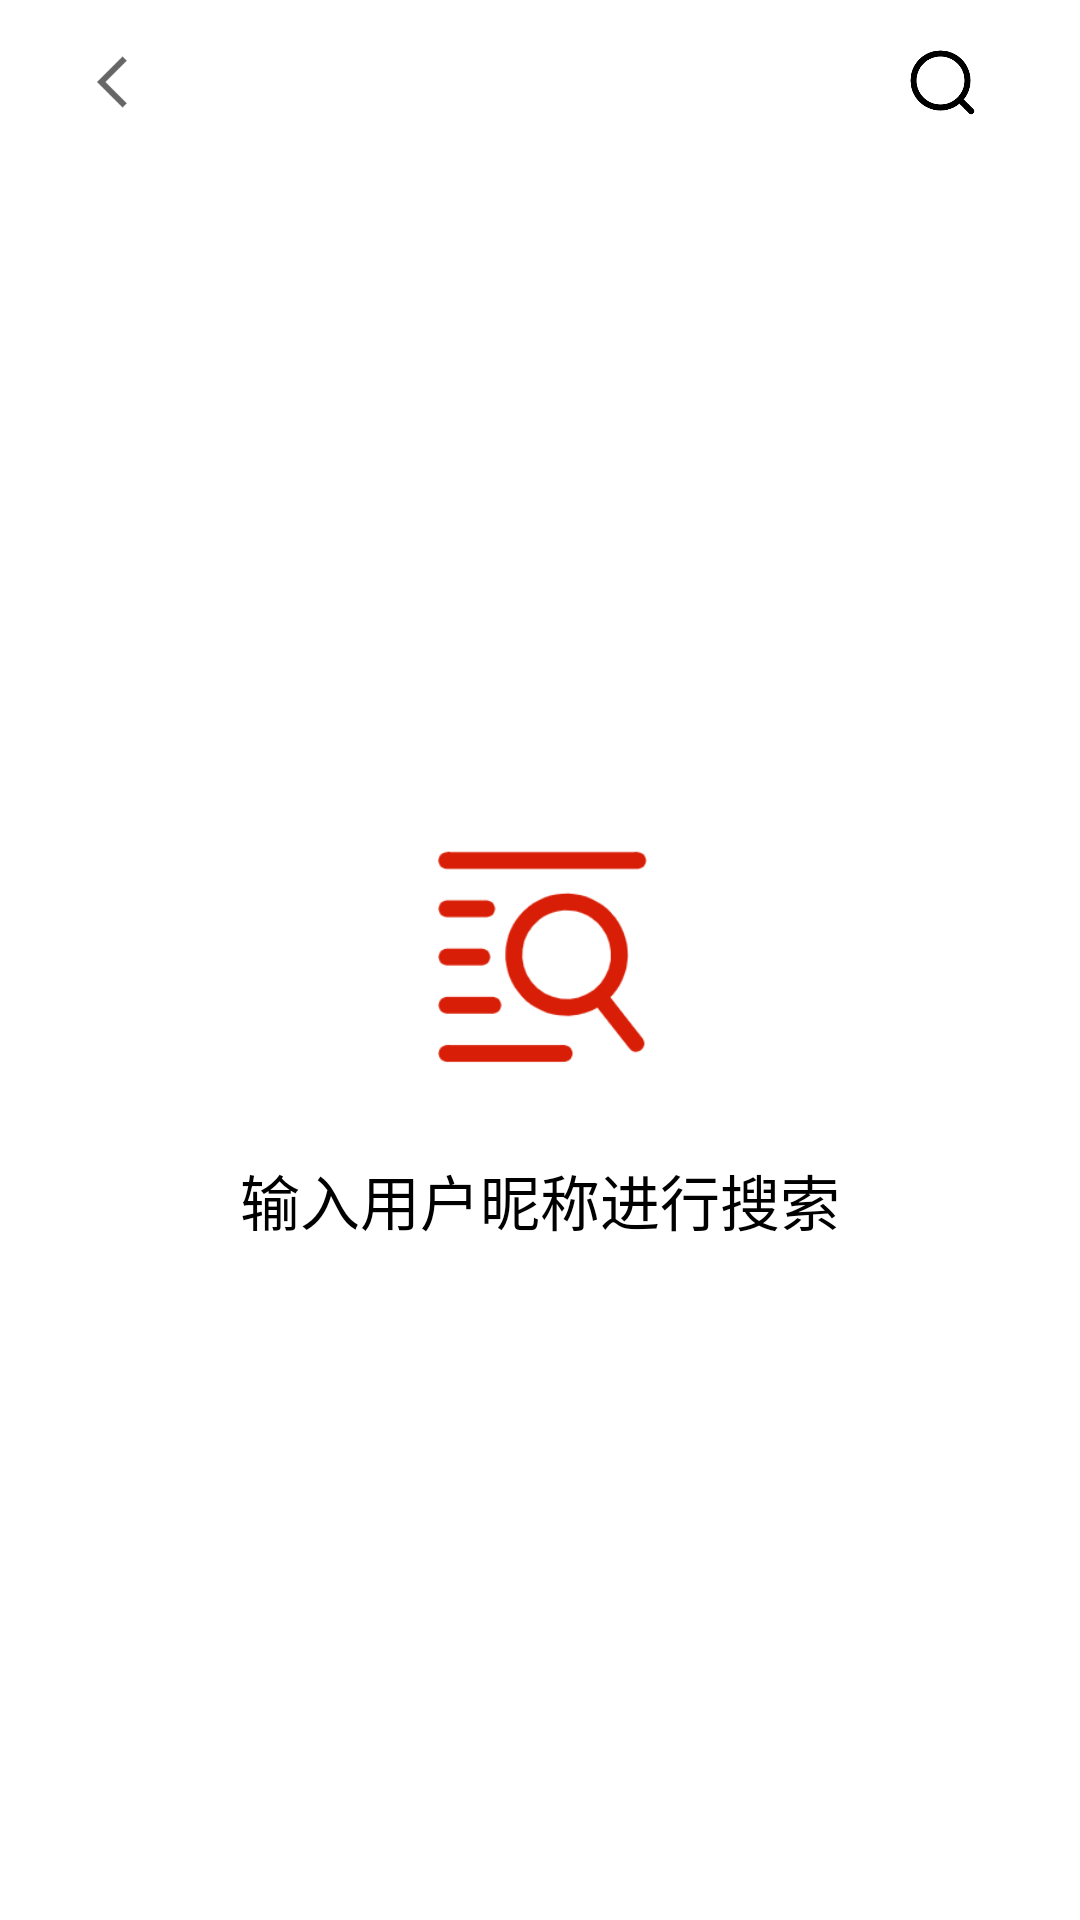

Point at icon controls on the screen. Image size 1080 x 1920, points as point (x, y).
search: point (942, 82)
